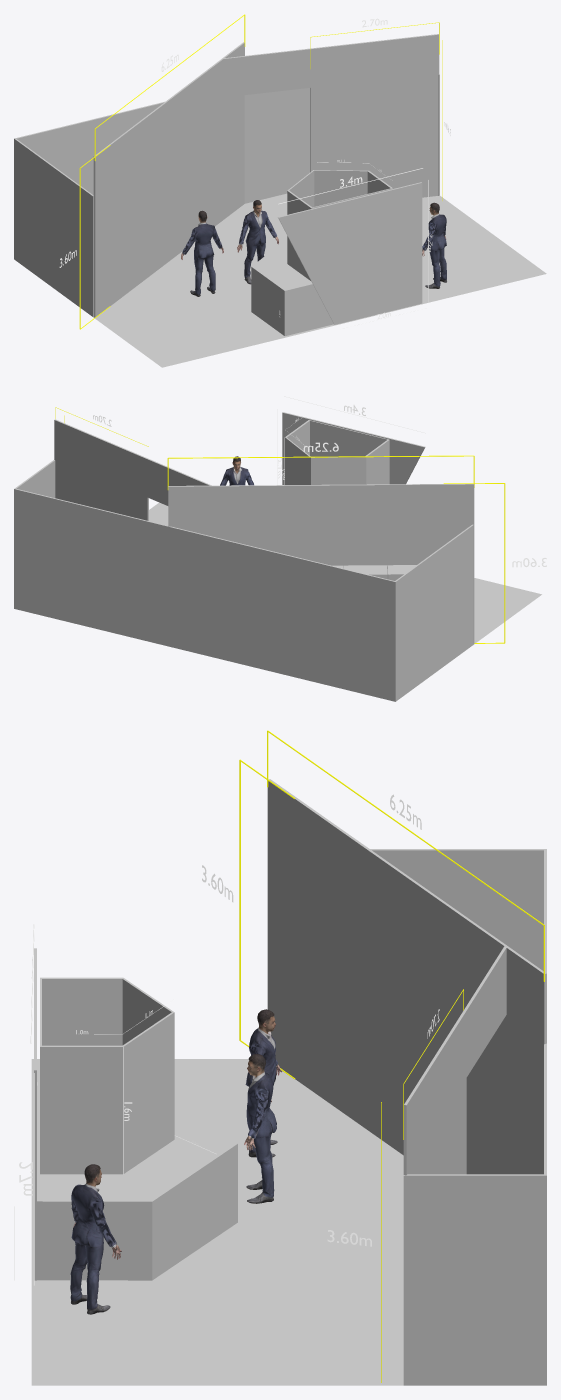
Rendered from labelforum26study_verb.glb.
3 views of the same model, one above another, from view 1: azimuth 30°, elevation 25°; view 2: azimuth 150°, elevation 25°; view 3: azimuth 270°, elevation 25° (orthographic). The views are drawn at different scales.
Visible parts, largest first — view 1: Plane.017, floor.006, Cube.100, Cylinder.006, Cube.081, Plane.014, Cylinder.002, Plane.016, Cube.099, Cylinder.009, Cylinder.008, Plane.015 (+5 smaller); view 2: Plane.016, Plane.017, Plane.015, Plane.014, Cube.081, Cube.100, Cylinder.008, floor.006, GeoMeasure [2.92].034, Cylinder.006, Cube.099, Cube.079 (+3 smaller); view 3: floor.006, Plane.017, Cube.079, Cylinder.008, Cylinder.002, Cube.081, Cube.100, loic_lp.026, loic_lp.024, Cube.099, GeoMeasure [2.92].034, loic_lp.028 (+2 smaller).
Part boxes in pixels (bbox=[...]): Plane.017: bbox=[93, 42, 244, 317]; floor.006: bbox=[93, 193, 546, 367]; Cube.100: bbox=[310, 34, 439, 197]; Cylinder.006: bbox=[278, 195, 421, 324]; Cube.081: bbox=[15, 139, 93, 316]; Plane.014: bbox=[244, 90, 288, 203]; Cylinder.002: bbox=[251, 238, 333, 335]; Plane.016: bbox=[14, 101, 164, 259]; Cube.099: bbox=[223, 48, 310, 97]; Cylinder.009: bbox=[370, 182, 422, 302]; Cylinder.008: bbox=[287, 170, 392, 280]; Plane.015: bbox=[289, 88, 309, 188]; Plane.016: bbox=[207, 535, 396, 701]; Plane.017: bbox=[168, 484, 474, 643]; Plane.015: bbox=[14, 488, 124, 635]; Plane.014: bbox=[123, 515, 207, 655]; Cube.081: bbox=[395, 524, 473, 700]; Cube.100: bbox=[54, 419, 148, 520]; Cylinder.008: bbox=[285, 420, 389, 484]; floor.006: bbox=[149, 502, 541, 643]; GeoMeasure [2.92].034: bbox=[167, 442, 546, 643]; Cylinder.006: bbox=[333, 424, 425, 484]; Cube.099: bbox=[147, 459, 211, 505]; Cube.079: bbox=[15, 460, 55, 497]; floor.006: bbox=[31, 1059, 403, 1385]; Plane.017: bbox=[267, 779, 546, 1174]; Cube.079: bbox=[403, 1174, 543, 1385]; Cylinder.008: bbox=[40, 977, 174, 1174]; Cylinder.002: bbox=[37, 1085, 237, 1280]; Cube.081: bbox=[370, 849, 543, 970]; Cube.100: bbox=[403, 1010, 466, 1175]; loic_lp.026: bbox=[70, 1164, 121, 1314]; loic_lp.024: bbox=[244, 1054, 276, 1203]; Cube.099: bbox=[464, 946, 506, 1076]; GeoMeasure [2.92].034: bbox=[202, 730, 544, 1079]; loic_lp.028: bbox=[245, 1009, 282, 1157].
Bounding box in the file's own units: 10.25 × 4.56 × 6.21.
Materials: 19 (1 with a texture image).
